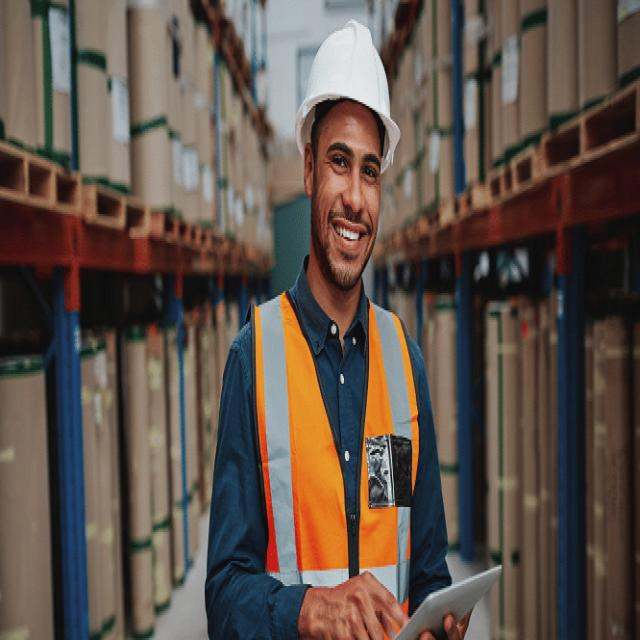Reflective-Jacket: (241, 279, 426, 640)
Safety-Helmet: (292, 11, 404, 168)
